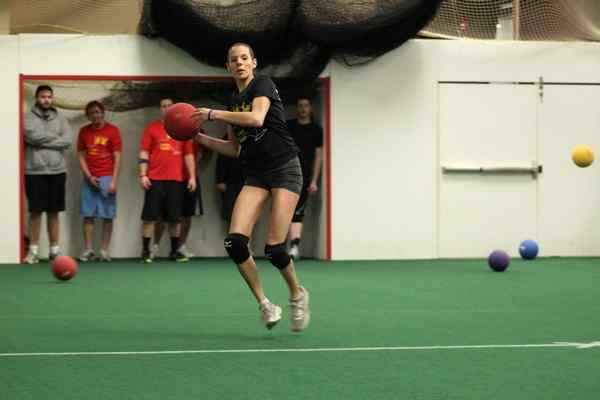blue ball: (519, 237, 539, 261)
red ball: (162, 103, 200, 141), (52, 254, 78, 280)
